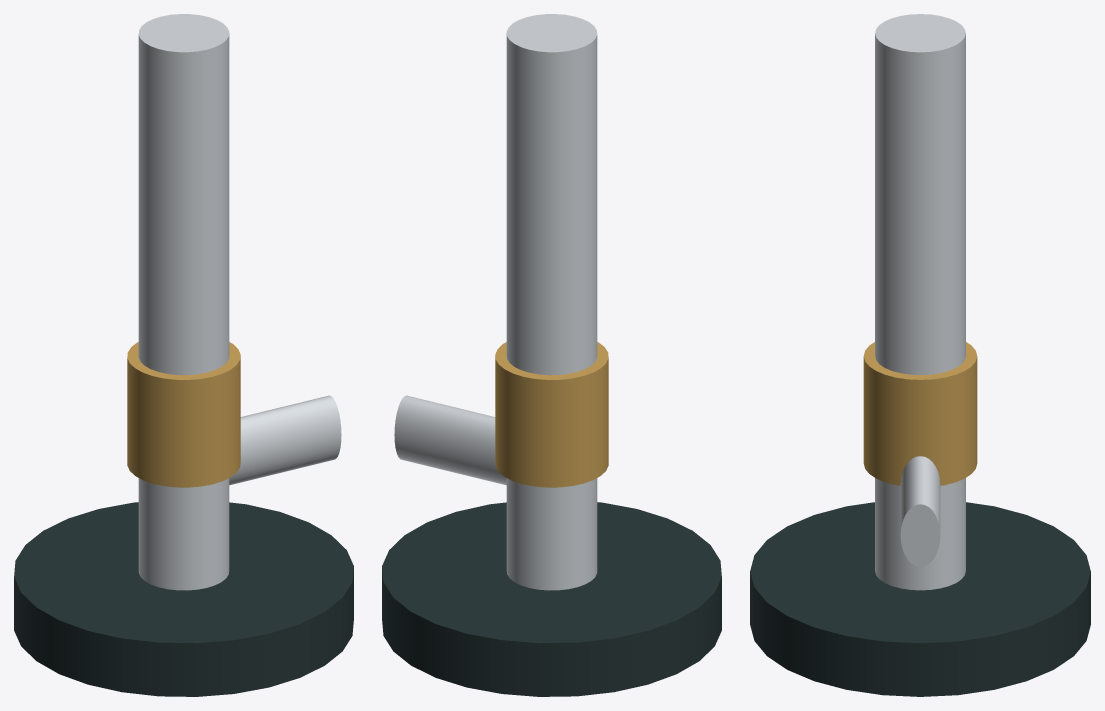
File: wp-bruleur-de-laboratoire.glb
The picture shows the model from 3 angles, left to right: view 1: azimuth 30°, elevation 25°; view 2: azimuth 150°, elevation 25°; view 3: azimuth 270°, elevation 25°; orthographic projection.
Parts seen in each view (by area): view 1: wp-bruleur-de-laboratoire; view 2: wp-bruleur-de-laboratoire; view 3: wp-bruleur-de-laboratoire.
Part boxes in pixels (left/top/right/bottom): wp-bruleur-de-laboratoire: left=14, top=14, right=353, bottom=696; wp-bruleur-de-laboratoire: left=382, top=14, right=721, bottom=696; wp-bruleur-de-laboratoire: left=750, top=14, right=1090, bottom=696.
Size of the model in its own units: 0.12 by 0.23 by 0.12.
